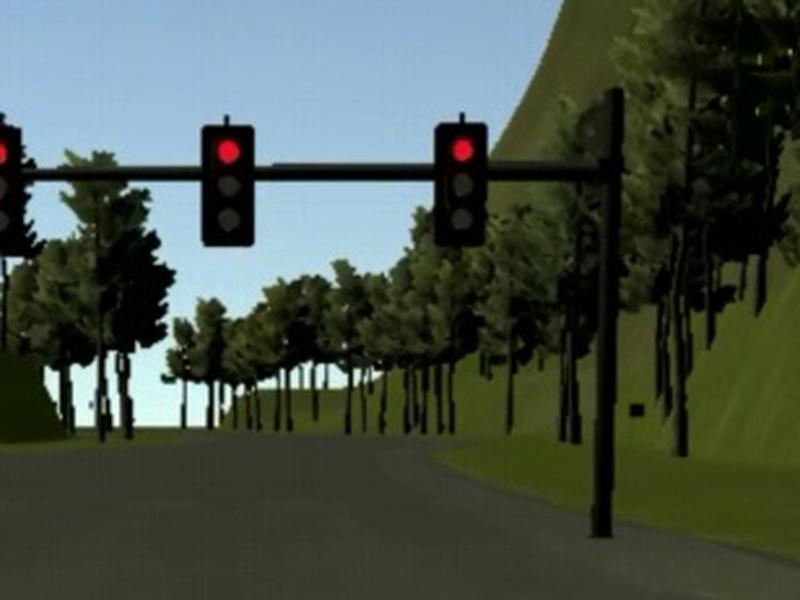Red: (201, 124, 254, 247), (435, 121, 487, 245), (1, 125, 24, 256)
